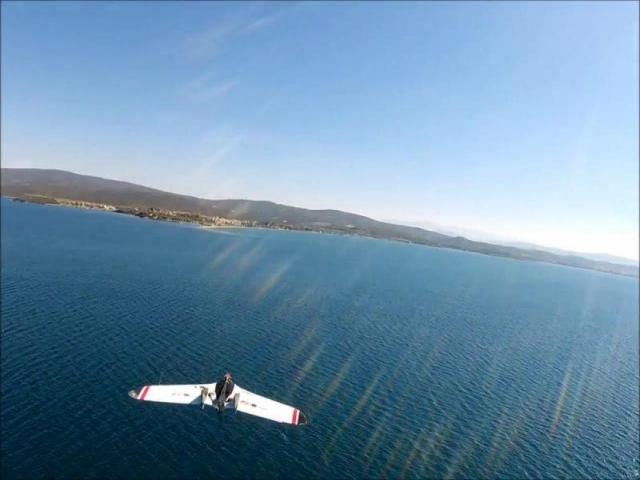hedef: (123, 361, 312, 441)
